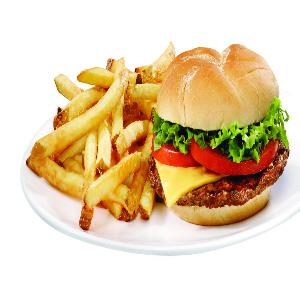cheeseburger_475cal: (161, 42, 284, 227)
fries_350cal: (22, 37, 159, 231)
